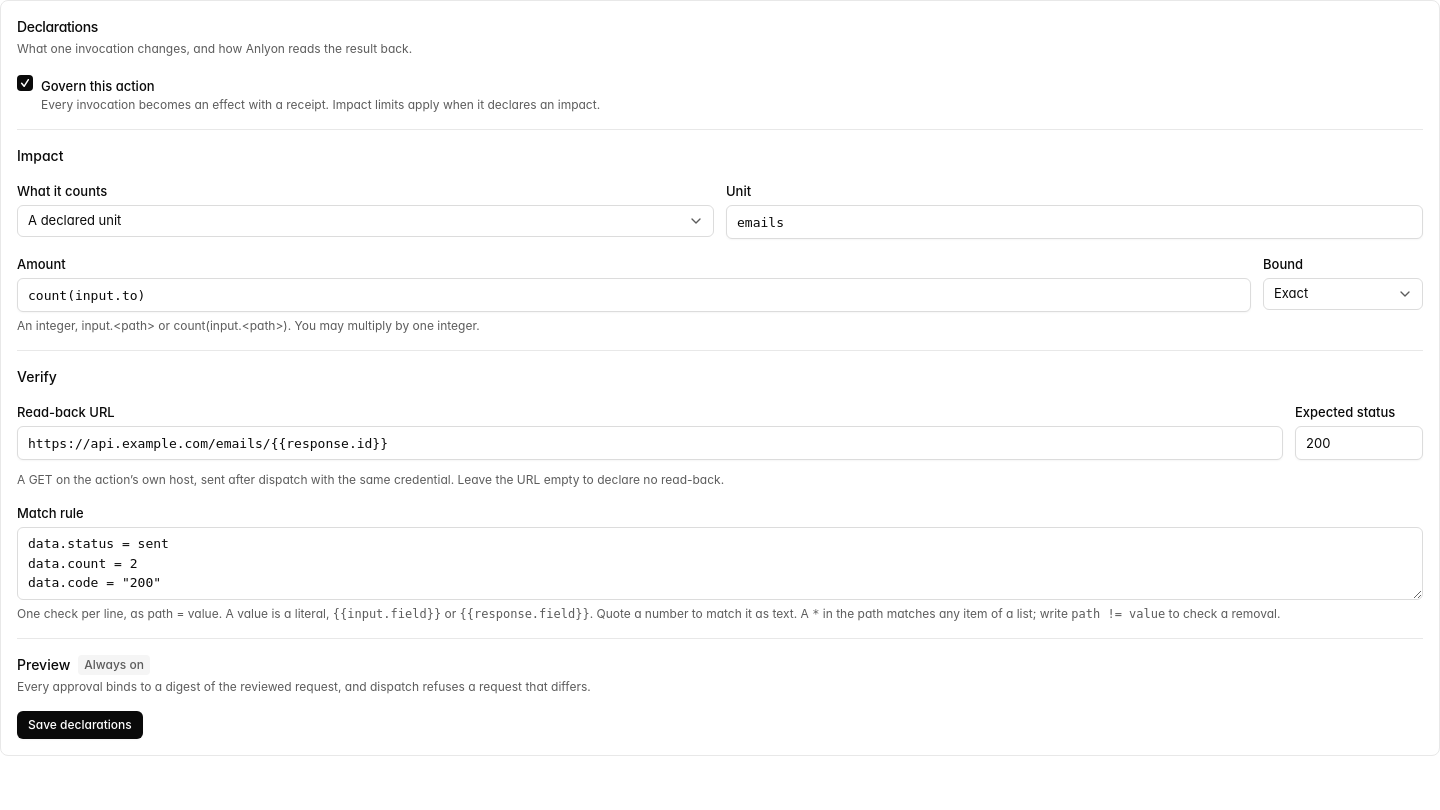
Test: DeclarationsForm › shows the server's refusal when changing a governed action needs actions:govern
Select "Upper bound" in the dropdown labelled "Bound" at [1343, 294], box [1263,278,1423,310]
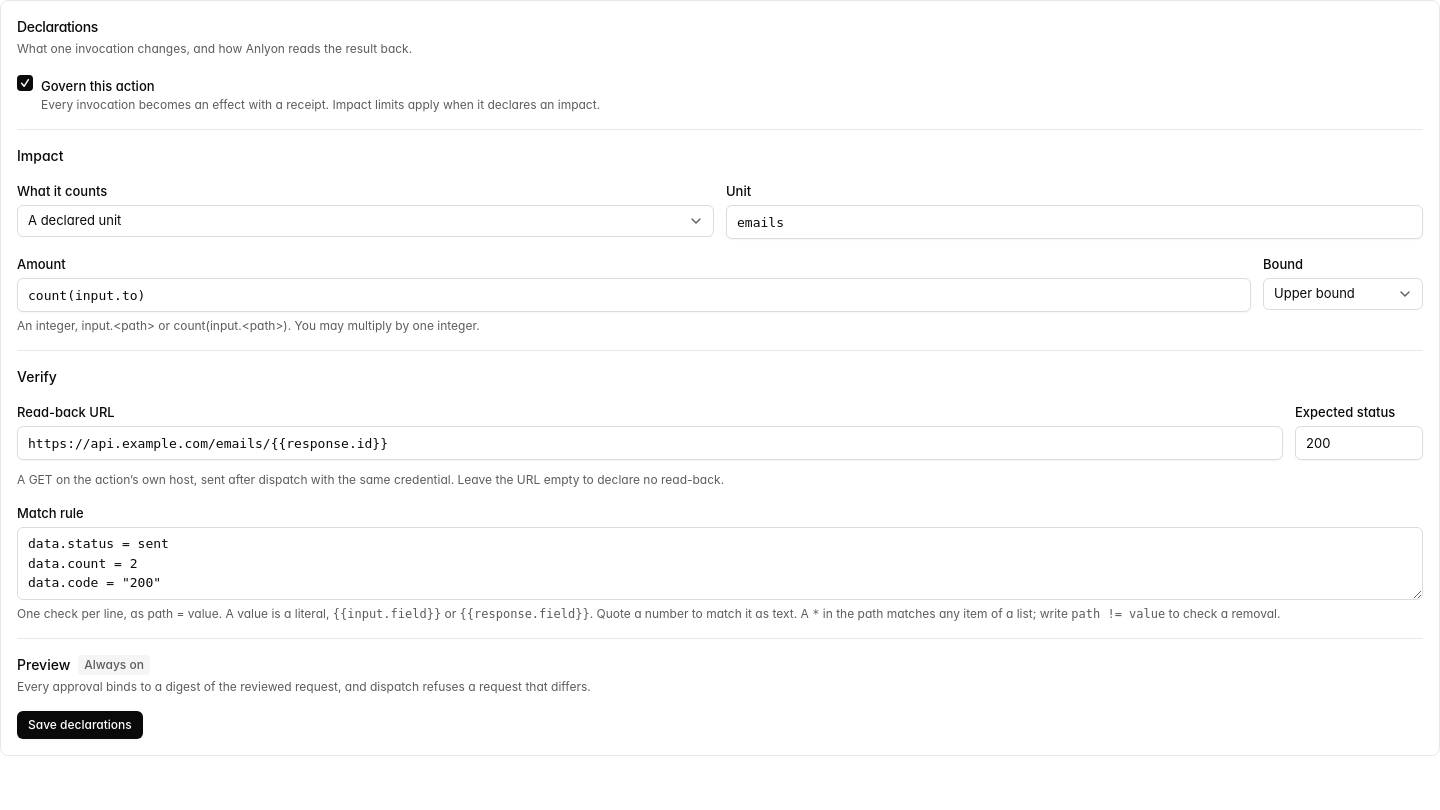
Click the button "Save declarations" at [80, 724], box [17,710,143,738]
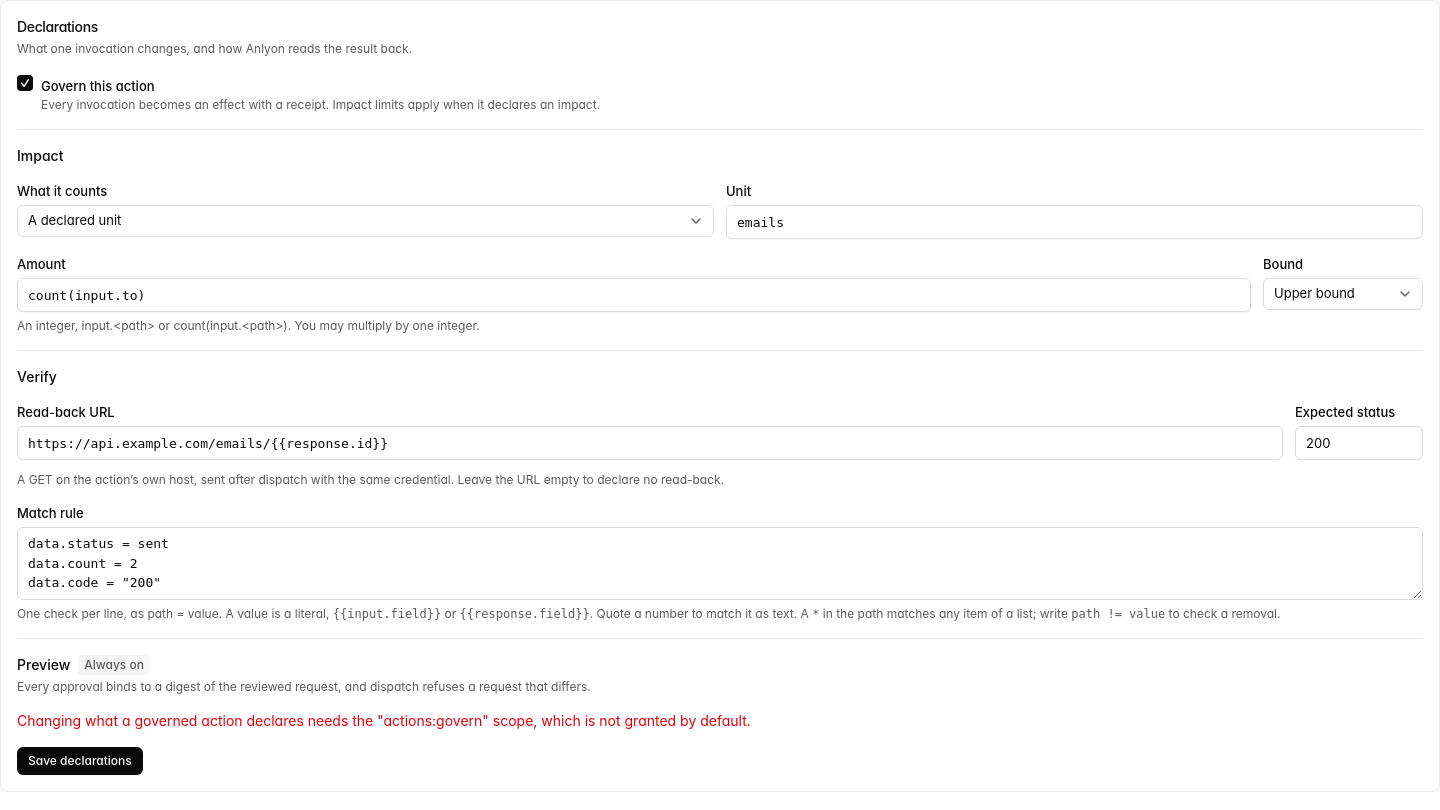
Check: the message shows "Changing what a governed action declares needs the \"actions:govern\" scope, which is not granted by default.", box [17,712,751,728]
